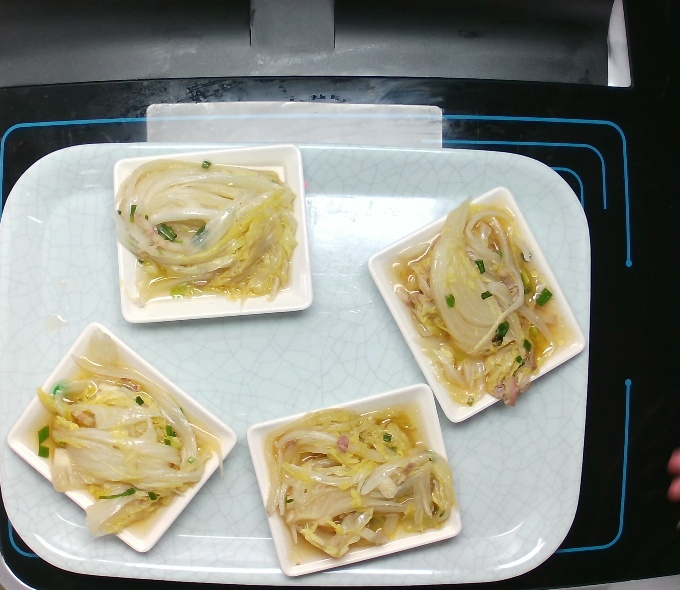wcq-DaBaiCaiRouMou: (32, 328, 224, 541), (388, 196, 575, 409), (263, 401, 458, 562), (110, 152, 301, 306)
